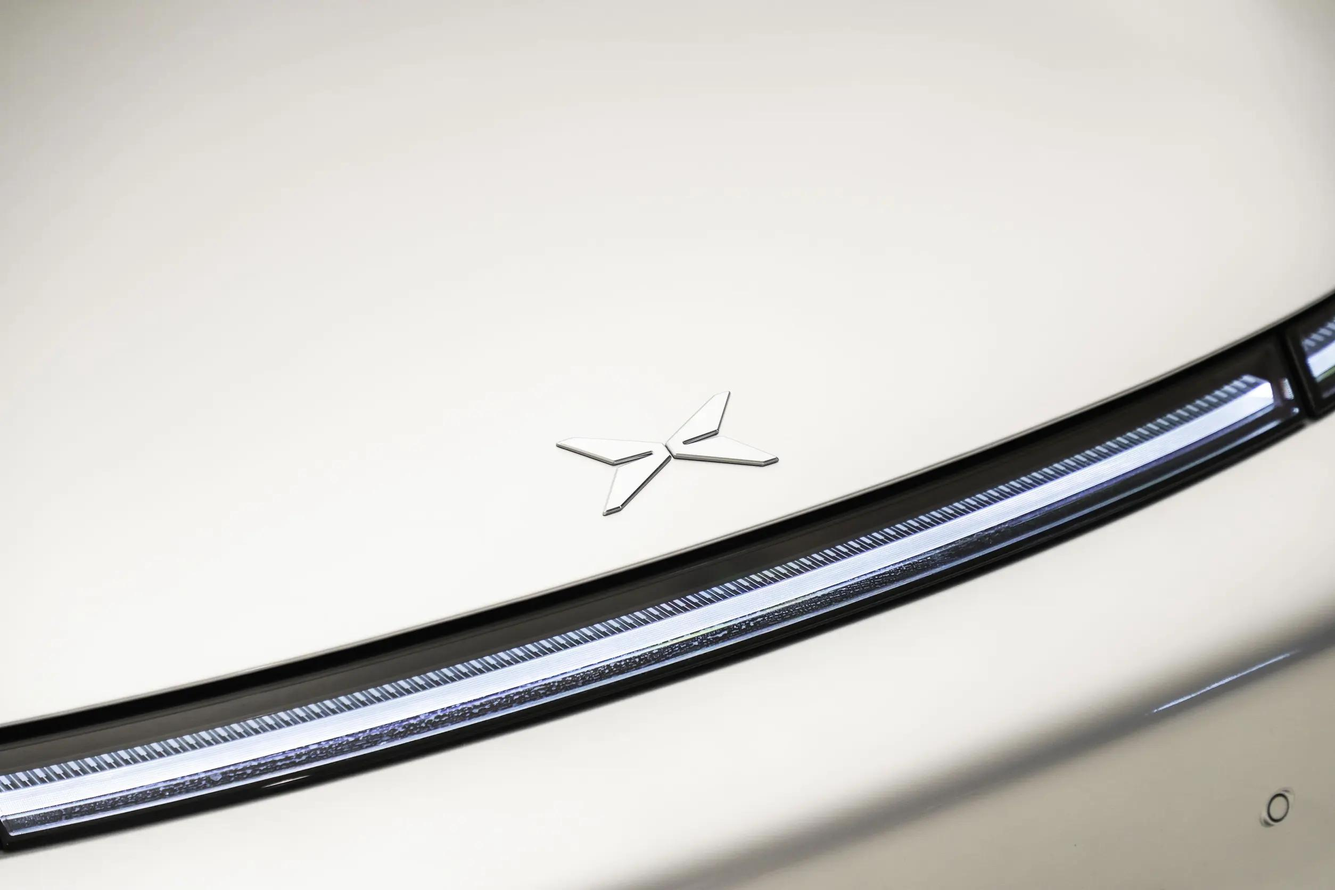XPeng Motors: (555, 390, 778, 517)
